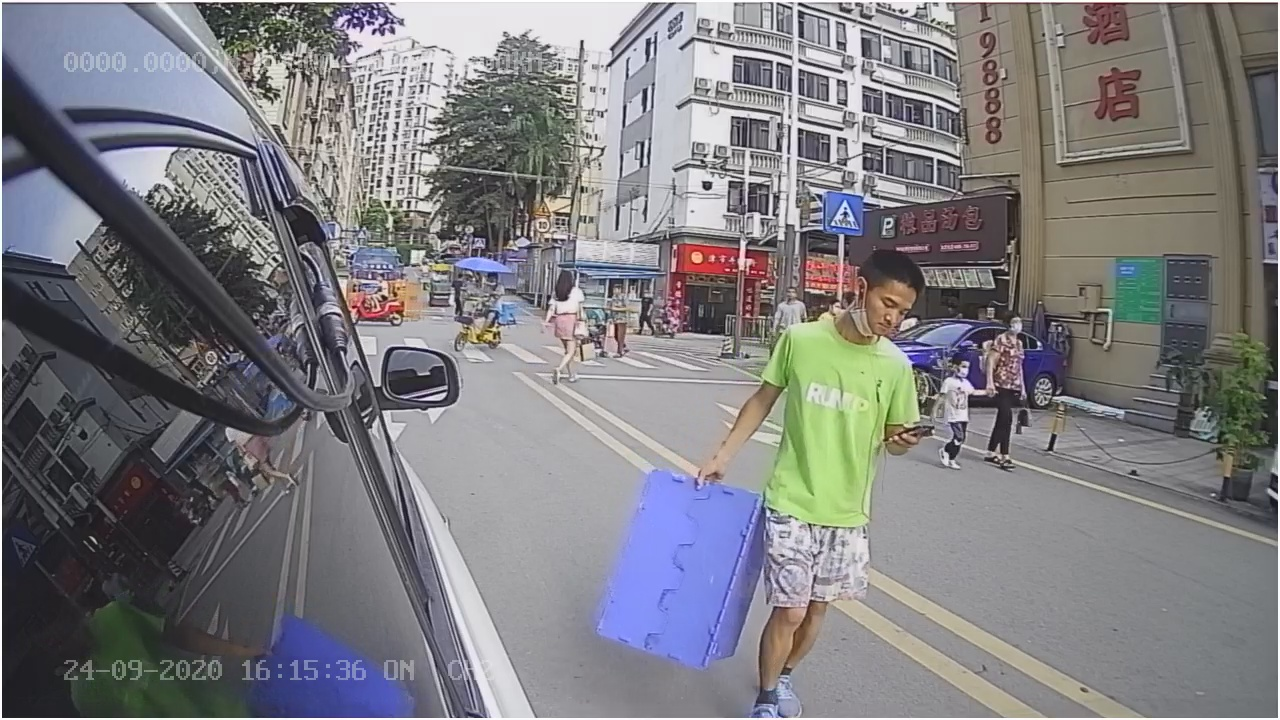person: (667, 241, 951, 703)
